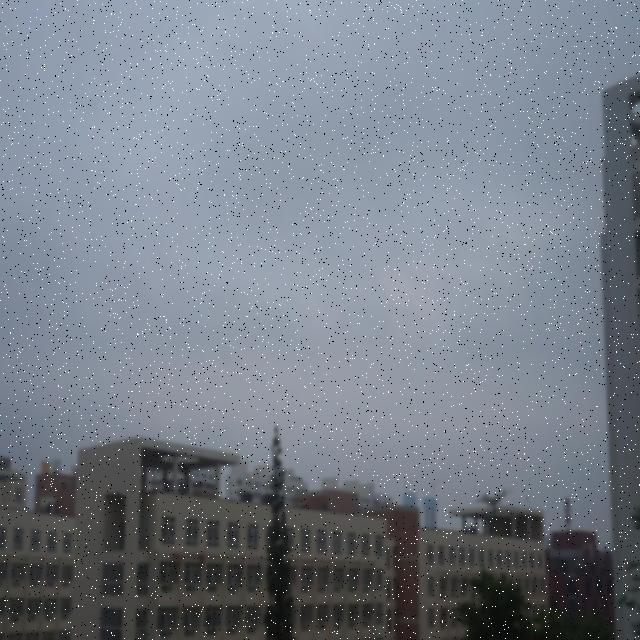UAV: (474, 489, 514, 518)
